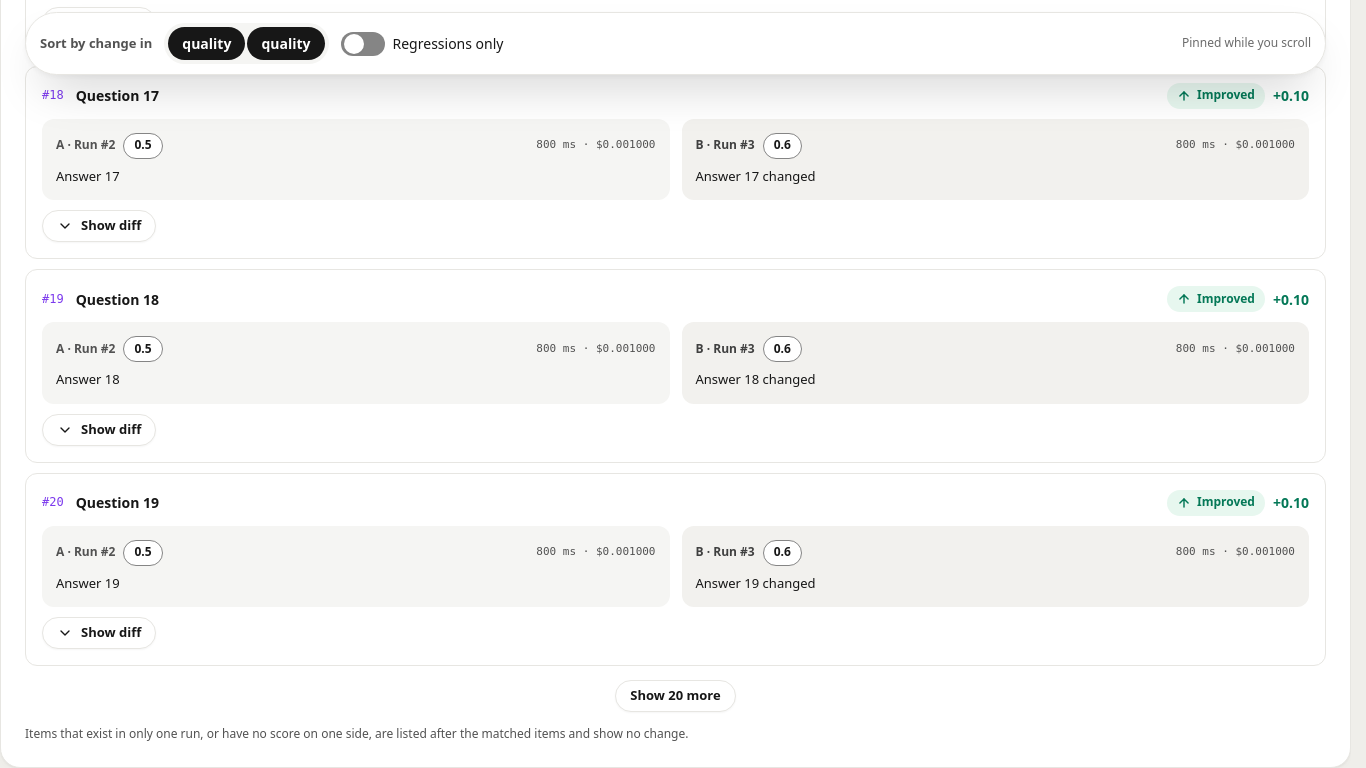
CompareTable Regressions only › keeps the regressed items, counts them once in the pinned bar and resets Show more
(page scrolled)
Click the button "Show 20 more" at (676, 696), box [615,680,736,712]
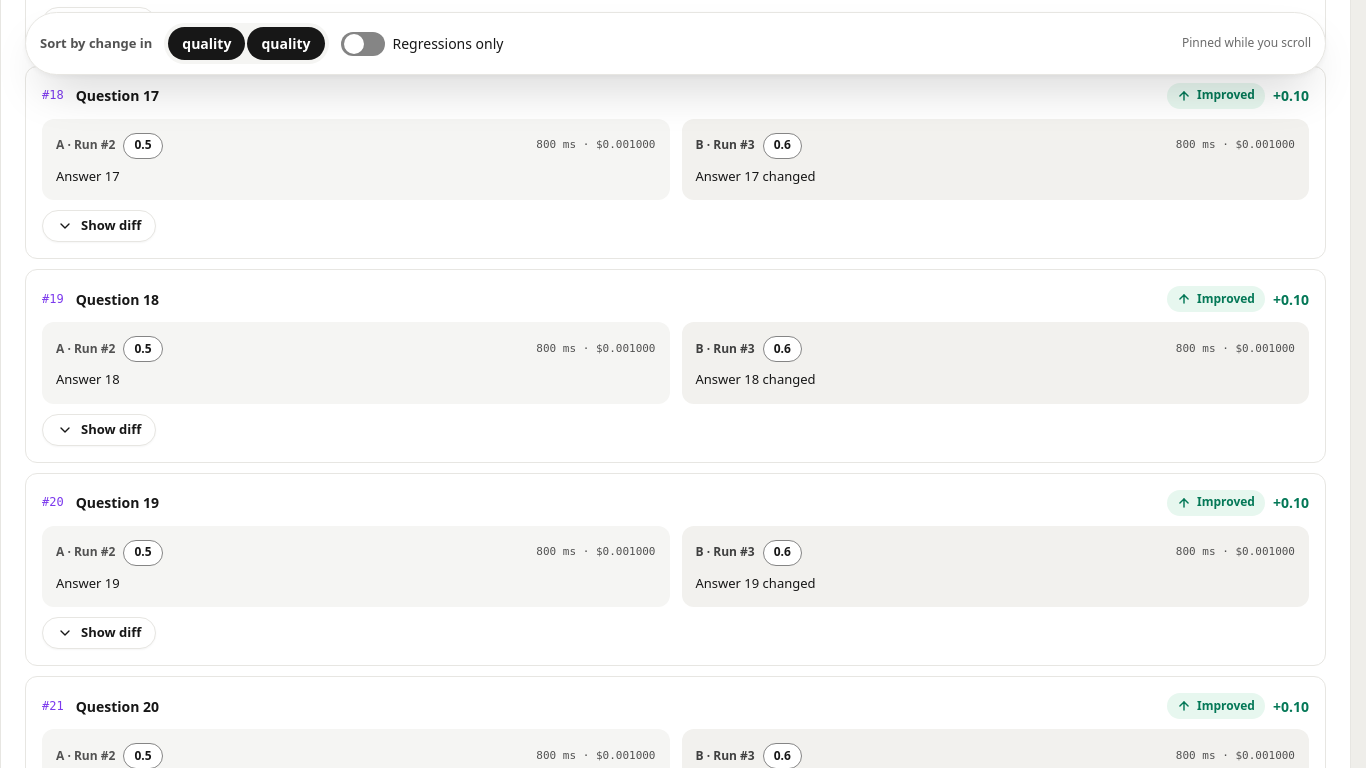
Click the switch named "Regressions only" at (362, 44), box [340,32,384,56]
(page scrolled)
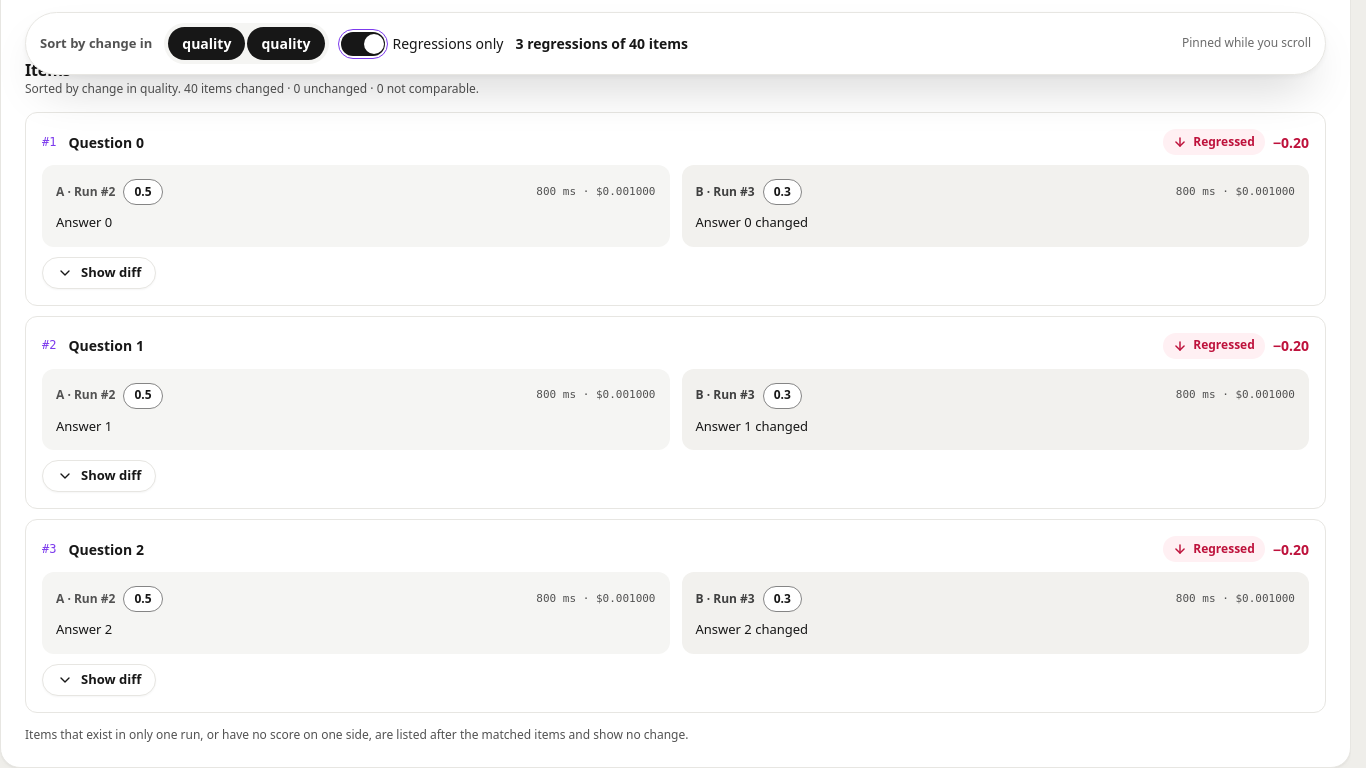
Expected: the number of list items is 3, [25,112,1326,306]; [25,316,1326,509]; [25,519,1326,713]
Expected: the text "3 regressions of 40 items" is shown once, [516,33,688,54]
Click the switch named "Regressions only" at (362, 44), box [340,32,384,56]
(page scrolled)
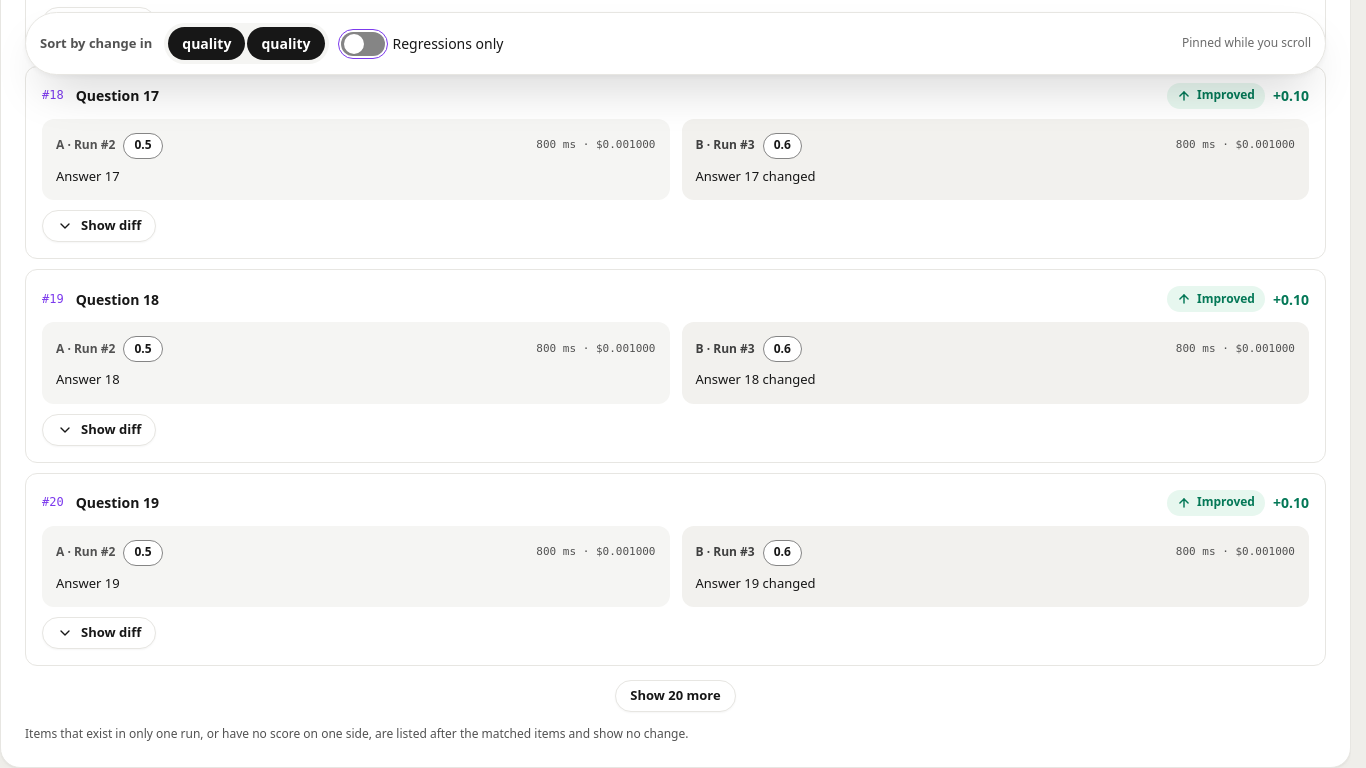
Expected: the text "3 regressions of 40 items" is gone
